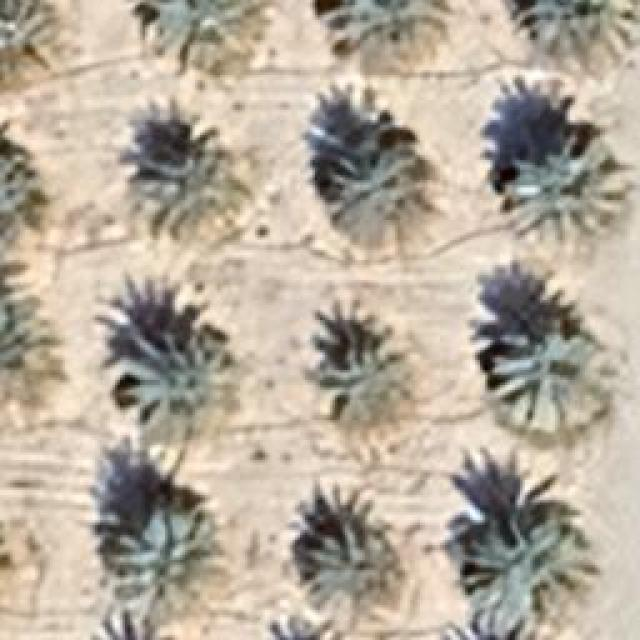PalmTree: (29, 42, 191, 186), (458, 528, 598, 638), (502, 134, 630, 248), (115, 500, 220, 635), (113, 328, 220, 440), (325, 145, 440, 245), (485, 328, 593, 430), (327, 0, 455, 70), (148, 0, 268, 70), (327, 330, 415, 420), (512, 0, 637, 62), (0, 294, 63, 409), (310, 521, 395, 604), (0, 134, 42, 248), (262, 614, 342, 638)
